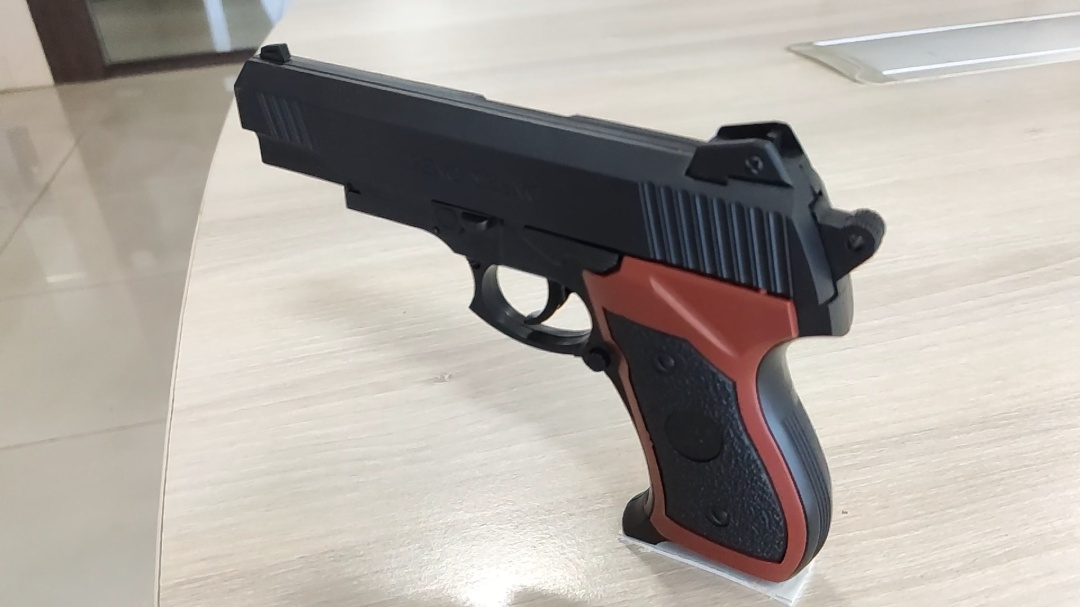gun: (231, 42, 890, 587)
